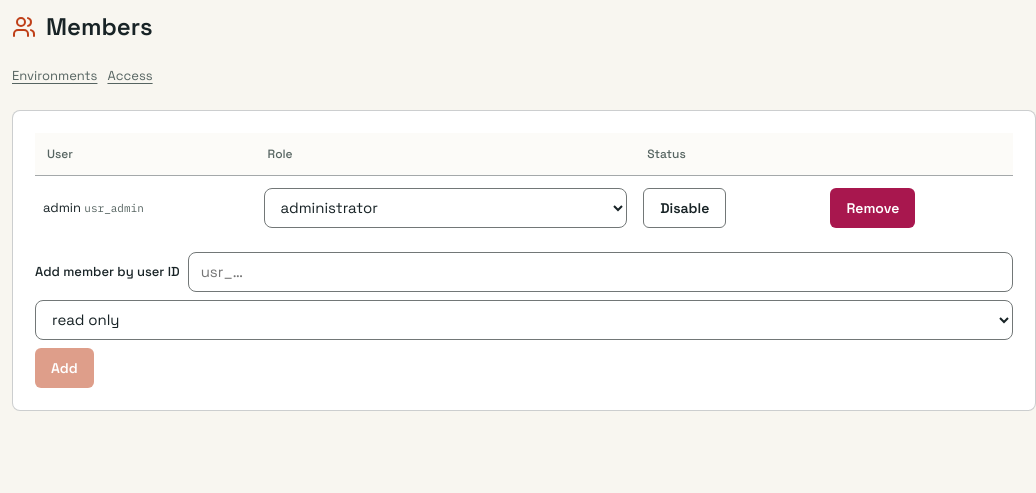
surfaces the last-administrator refusal on the members screen
Select "read only" in the dropdown named "Role for admin". click: (445, 208)
box: [264,188,627,228]
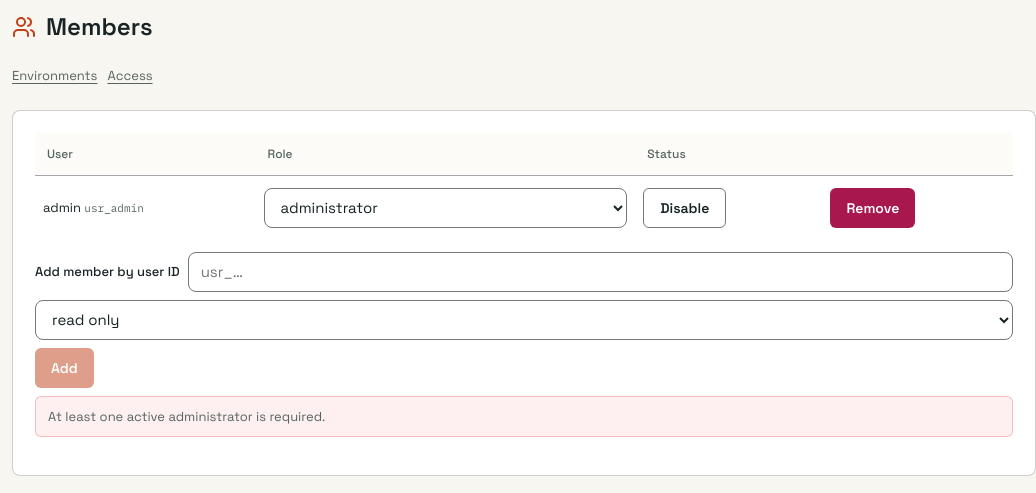
Result: the message shows "At least one active administrator" at [48,408,325,424]
